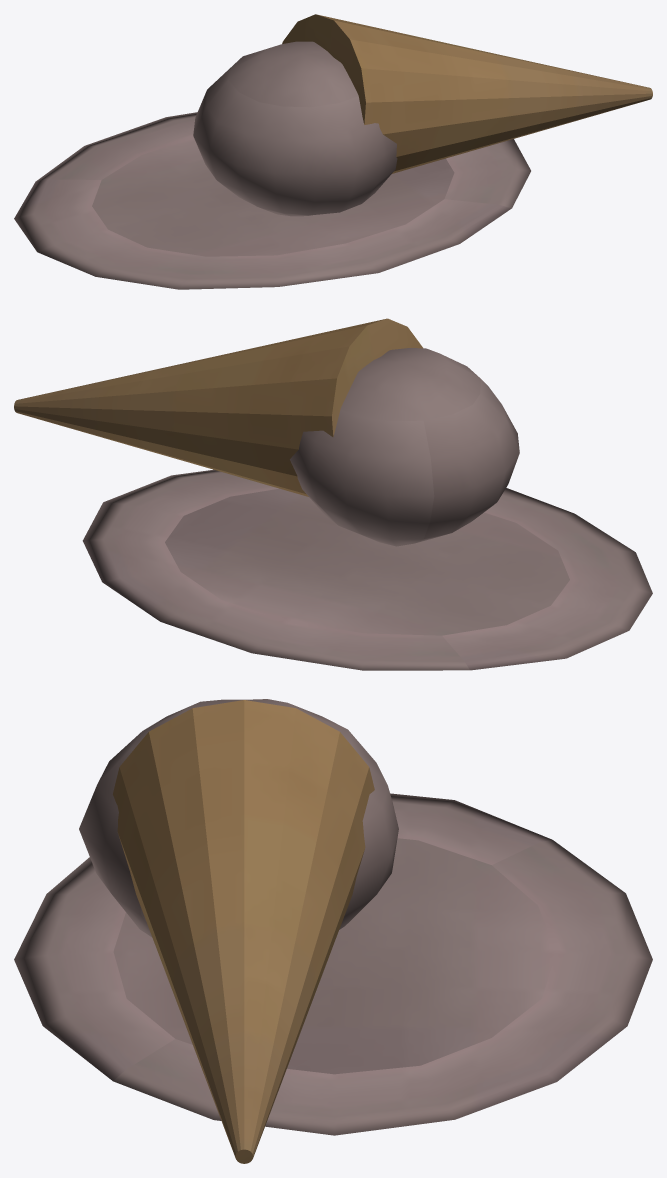
File: FD12_MeltedIceCreamCone.glb
3 views of the same model, one above another, from view 1: azimuth 30°, elevation 25°; view 2: azimuth 150°, elevation 25°; view 3: azimuth 270°, elevation 25° (orthographic). The views are drawn at different scales.
Parts seen in each view (by area): view 1: FD12_MeltedIceCreamCone; view 2: FD12_MeltedIceCreamCone; view 3: FD12_MeltedIceCreamCone.
Part boxes in pixels (box(x1,y1,x2,y2)): FD12_MeltedIceCreamCone: box(14, 14, 652, 289); FD12_MeltedIceCreamCone: box(14, 318, 652, 670); FD12_MeltedIceCreamCone: box(14, 699, 652, 1163).
Size of the model in its own units: 0.2 by 0.0643 by 0.1264.
2 materials, 2 textured.
